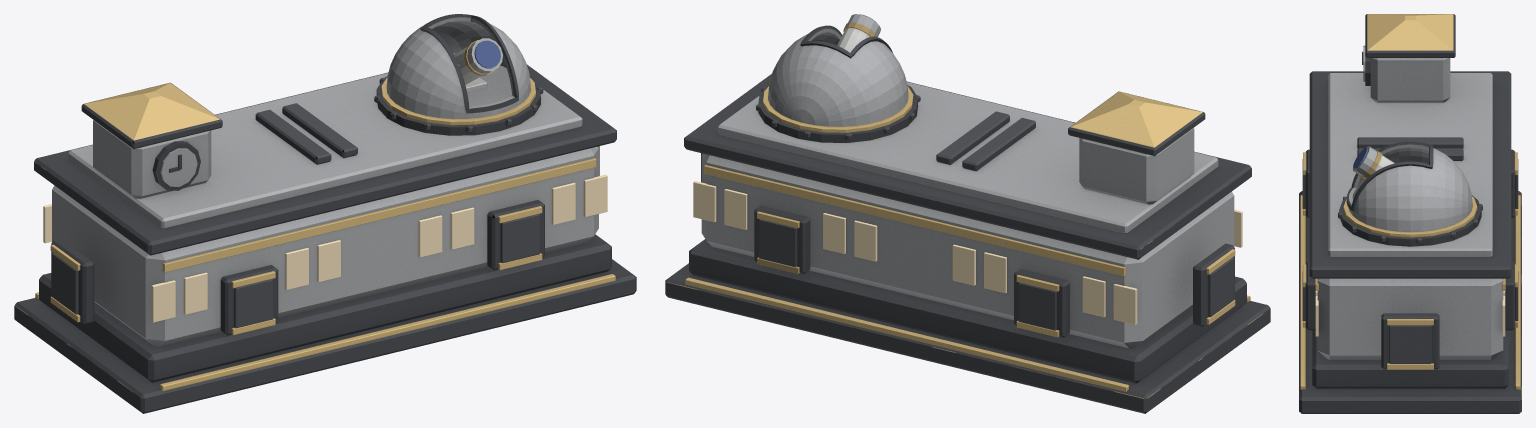
The model's file is SM_School.fbx.
The picture shows the model from 3 angles, left to right: view 1: azimuth 30°, elevation 25°; view 2: azimuth 150°, elevation 25°; view 3: azimuth 270°, elevation 25°; orthographic projection. The views are drawn at different scales.
Visible parts, largest first — view 1: SMN_School, SchoolWindows, TelescopeLens; view 2: SMN_School, SchoolWindows; view 3: SMN_School, SchoolWindows.
Part boxes in pixels (x1,y1,x2,y2): SMN_School: [14, 14, 636, 413]; SchoolWindows: [43, 174, 607, 322]; TelescopeLens: [474, 40, 500, 68]; SMN_School: [665, 14, 1270, 413]; SchoolWindows: [693, 181, 1242, 324]; SMN_School: [1299, 14, 1521, 413]; SchoolWindows: [1315, 291, 1505, 336].
Bounding box in the file's own units: 1.96 × 0.915 × 0.84.
